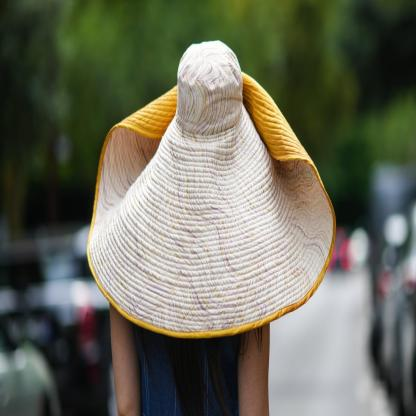hat: (80, 36, 341, 344)
